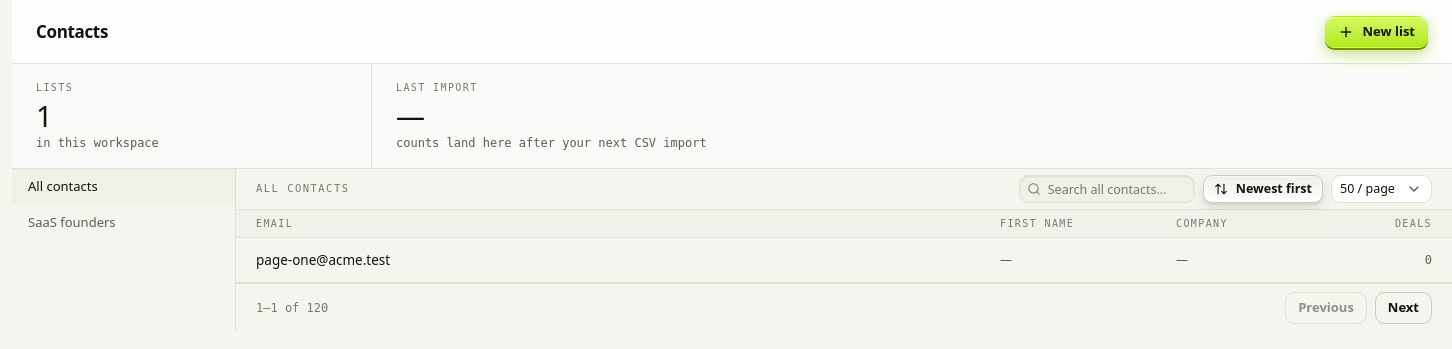
Scenario: Next walks forward and Previous walks back down the cursor stack
Expected: the text "page-one@acme.test" is shown, [256,251,390,269]
Expected: the button with aria-label "Previous page" is disabled, [1285,292,1367,324]
Click the button with aria-label "Next page": [1403, 308] box [1375,292,1432,324]
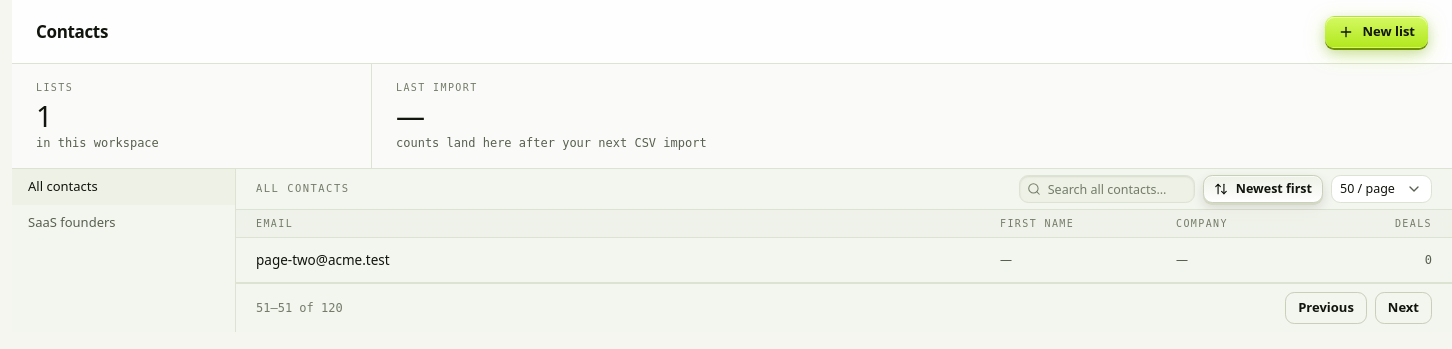
Now the text "page-two@acme.test" is shown, box [256,251,390,269]
Now the text "51–51 of 120" is shown, box [256,299,343,317]
Click the button with aria-label "Previous page": [1326, 308] box [1285,292,1367,324]
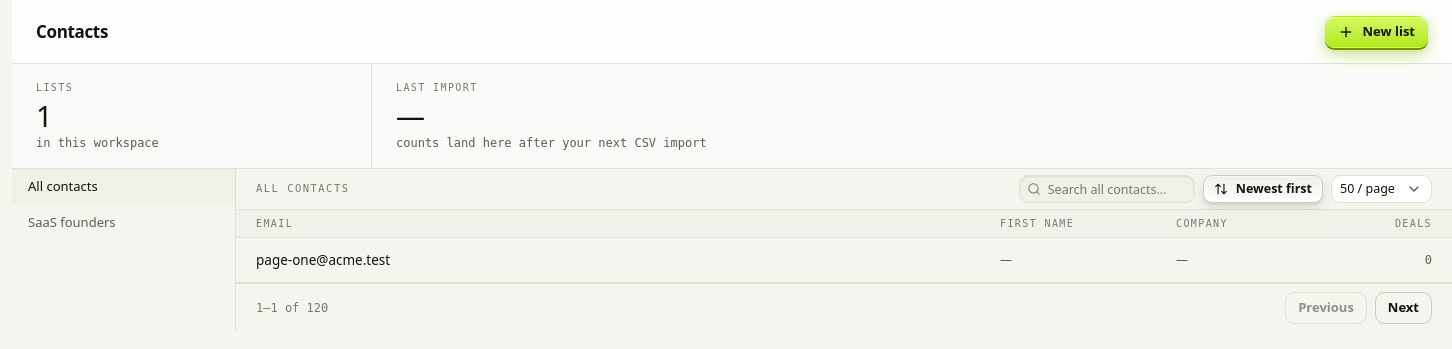
Now the text "page-one@acme.test" is shown, box [256,251,390,269]
Now the link "page-two@acme.test" is gone
Now the button with aria-label "Previous page" is disabled, box [1285,292,1367,324]
